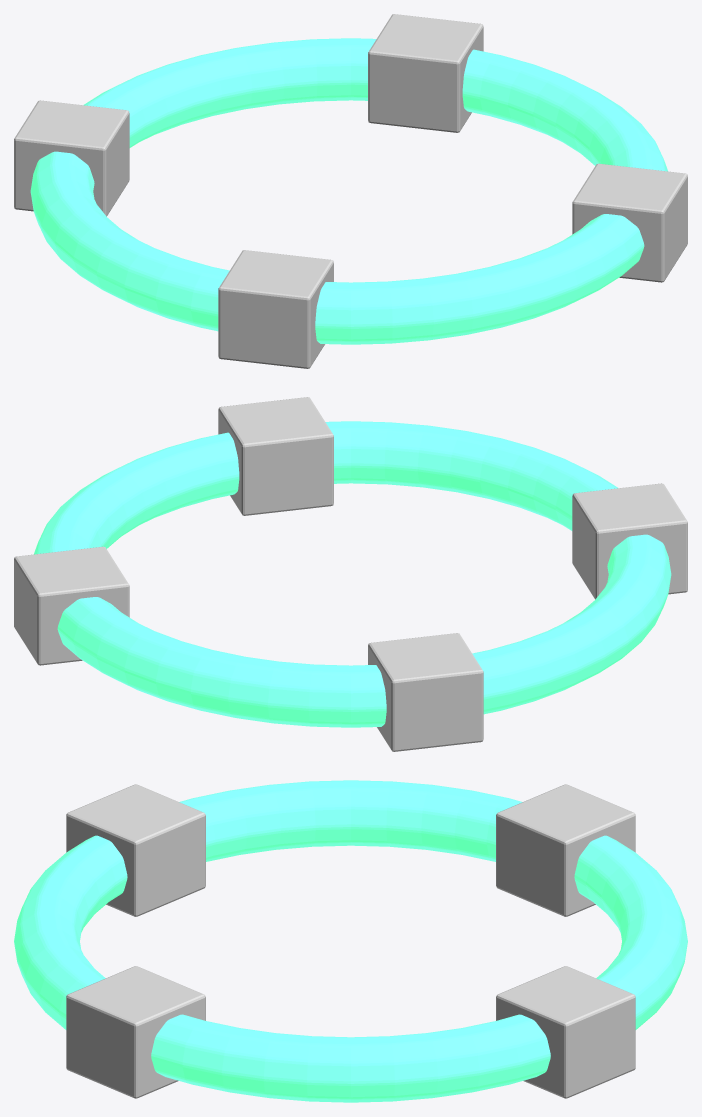
The model's file is china_ring.fbx.
The picture shows the model from 3 angles, top to bottom: view 1: azimuth 30°, elevation 25°; view 2: azimuth 150°, elevation 25°; view 3: azimuth 270°, elevation 25°; orthographic projection. The views are drawn at different scales.
Parts seen in each view (by area): view 1: china_ring; view 2: china_ring; view 3: china_ring.
Part boxes in pixels (bbox=[...]): china_ring: bbox=[14, 14, 687, 368]; china_ring: bbox=[14, 397, 687, 751]; china_ring: bbox=[14, 780, 687, 1102].
Size of the model in its own units: 2.42 by 0.3 by 2.42.
